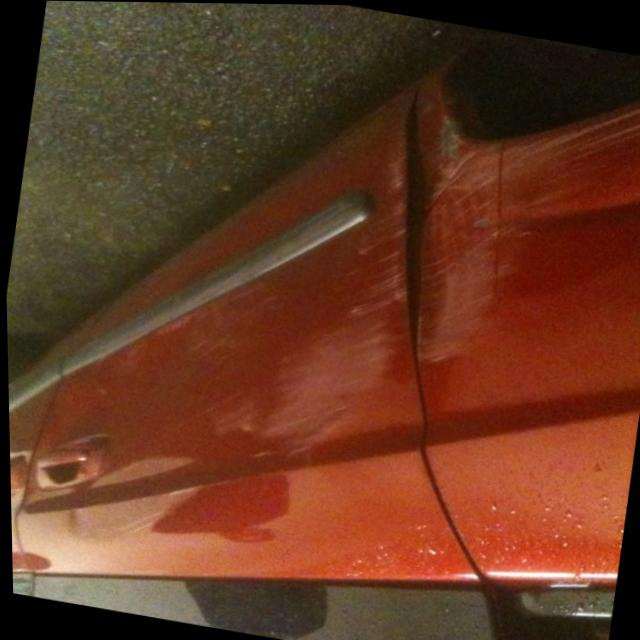Scratch: (227, 148, 494, 452)
